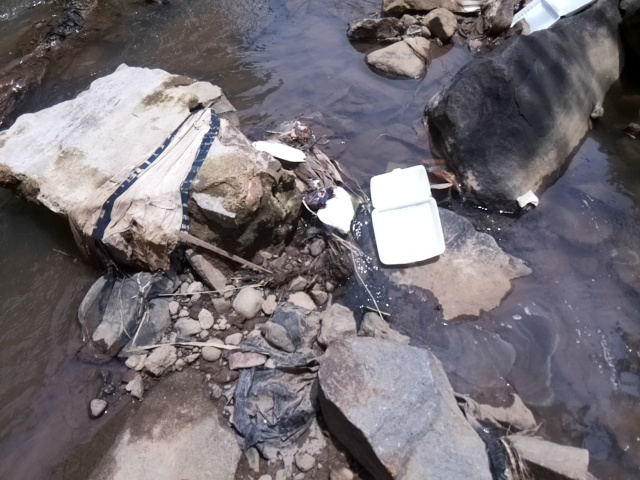Sampah_Styrofoam: (367, 164, 448, 266), (510, 1, 596, 37), (317, 187, 360, 236)
